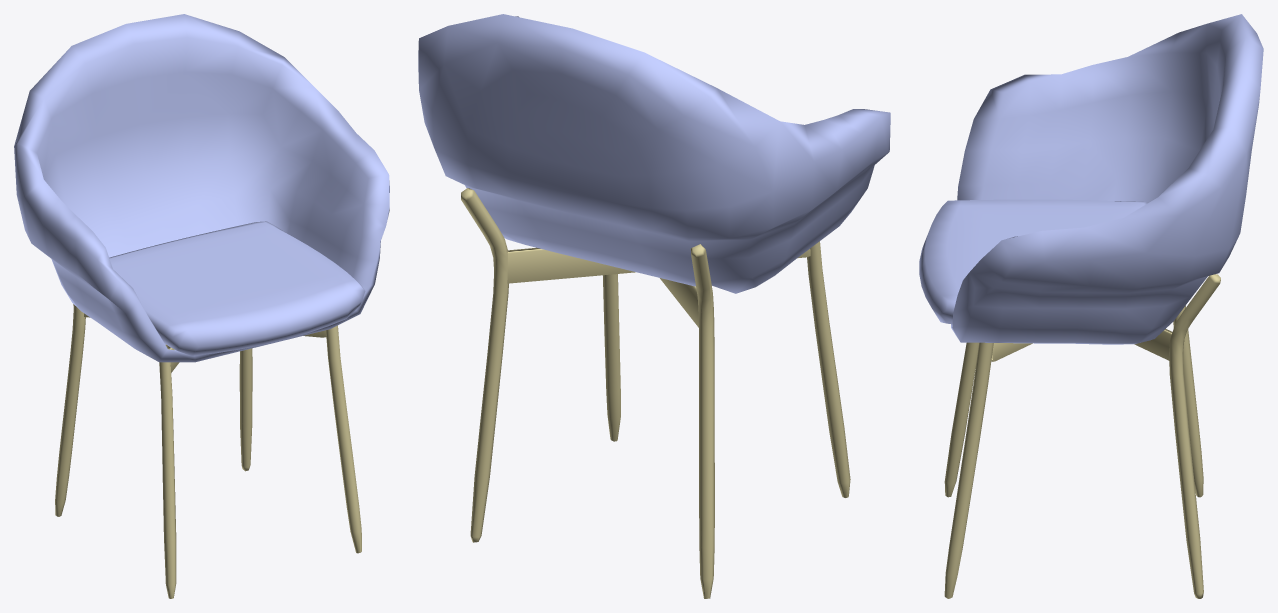
3 views of the same model, side by side, from view 1: azimuth 30°, elevation 25°; view 2: azimuth 150°, elevation 25°; view 3: azimuth 270°, elevation 25° (orthographic). The views are drawn at different scales.
Visible parts, largest first — view 1: chair3; view 2: chair3; view 3: chair3.
Boxes of the visible parts, left/top/right/bottom form: chair3: left=14, top=14, right=389, bottom=598; chair3: left=418, top=14, right=890, bottom=598; chair3: left=919, top=14, right=1263, bottom=598.
Bounding box in the file's own units: 67.52 × 94.28 × 57.95.
